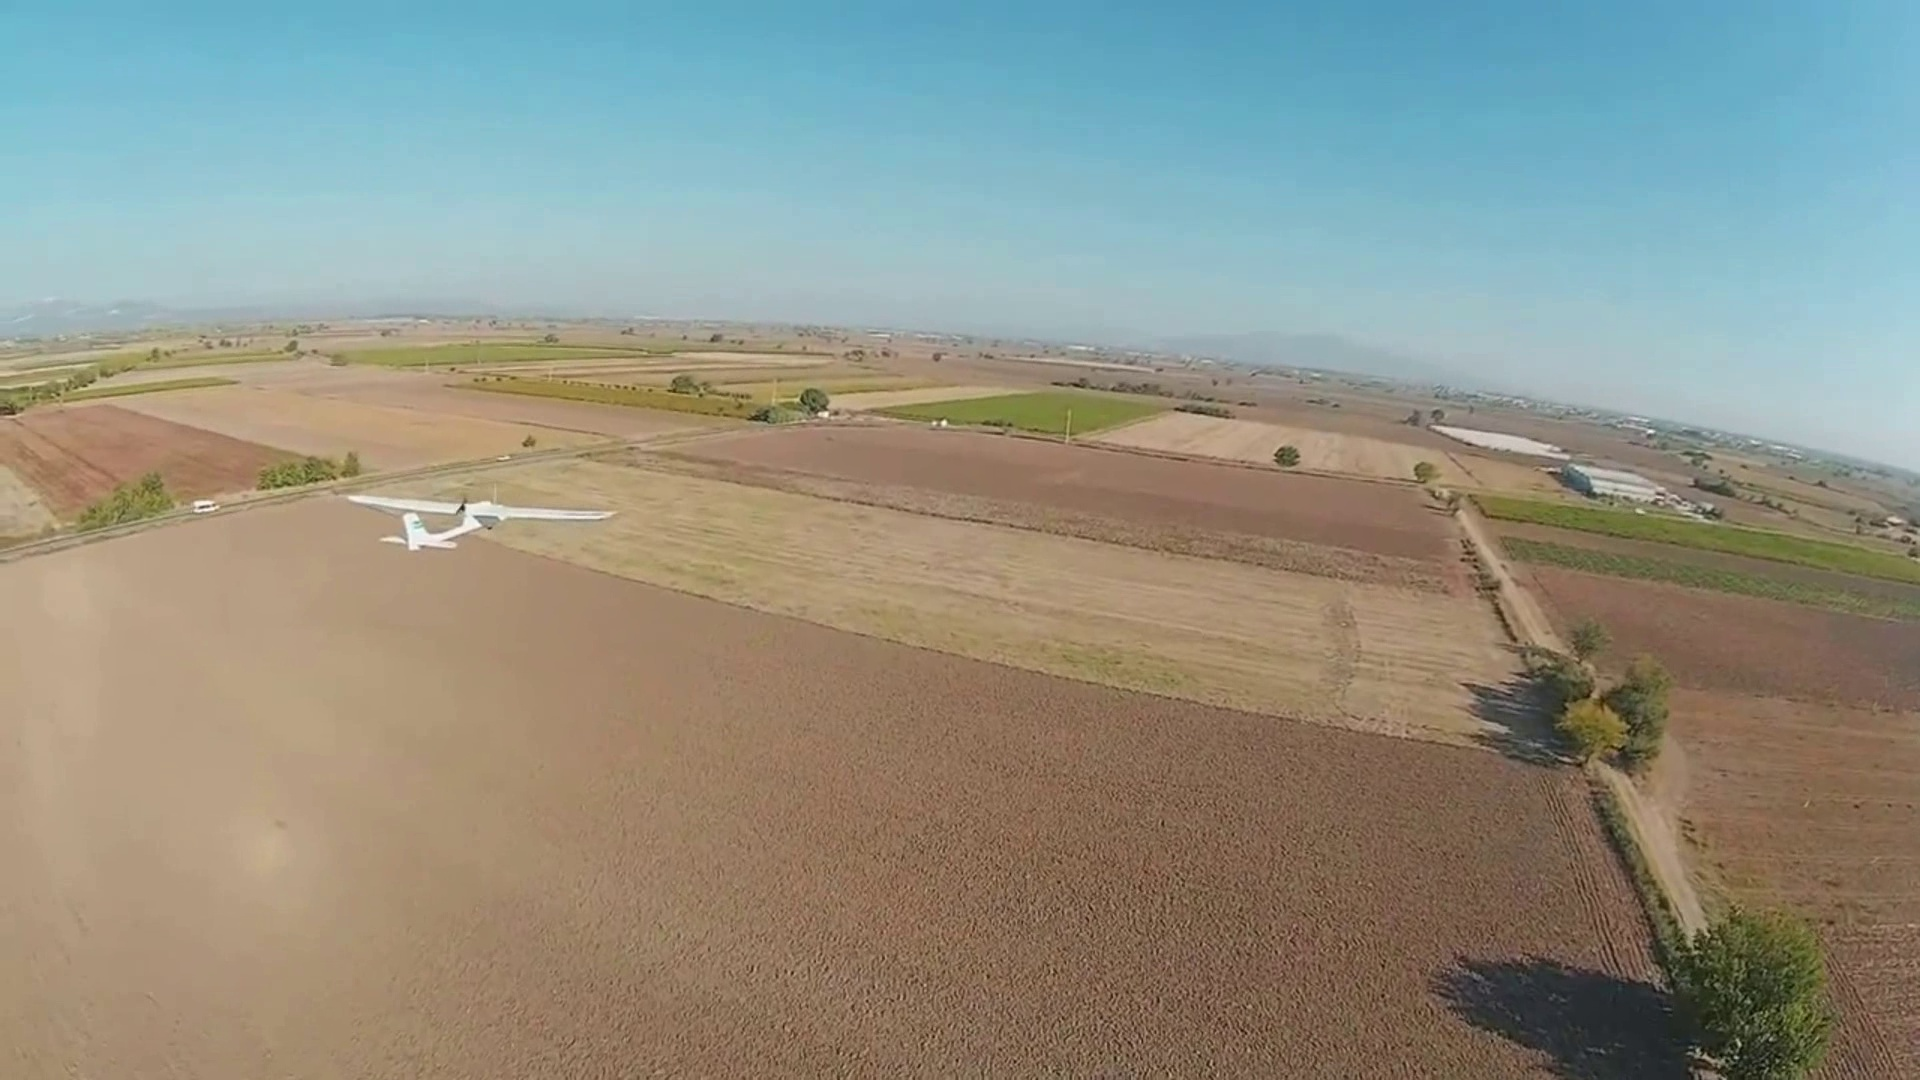airplane: (364, 496, 616, 553)
